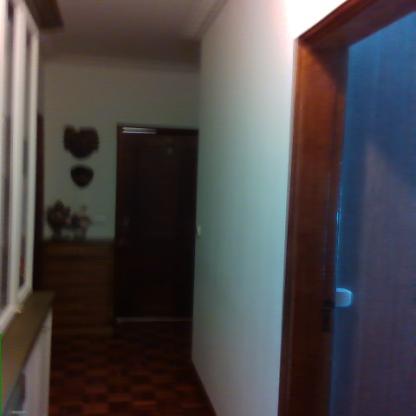closed: (102, 119, 209, 326)
